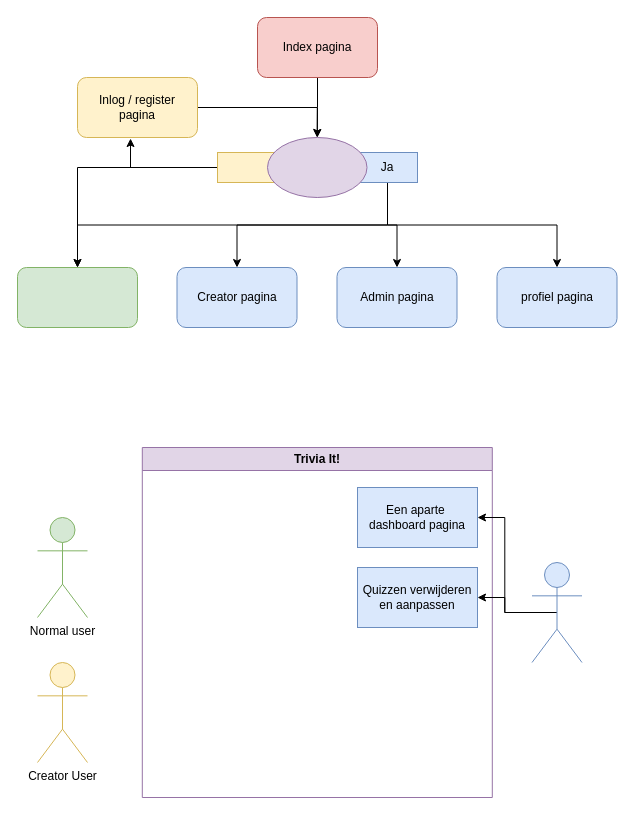
The diagram is 635 pixels wide and 815 high, and some of its shapes have lost their labels. Each missing label, with the centre of its shape:
"Admin" goes at pixel 556 612.
"Ingelogd?" goes at pixel 316 167.
"Nee" goes at pixel 247 167.
"Quizzen pagina" goes at pixel 77 297.
